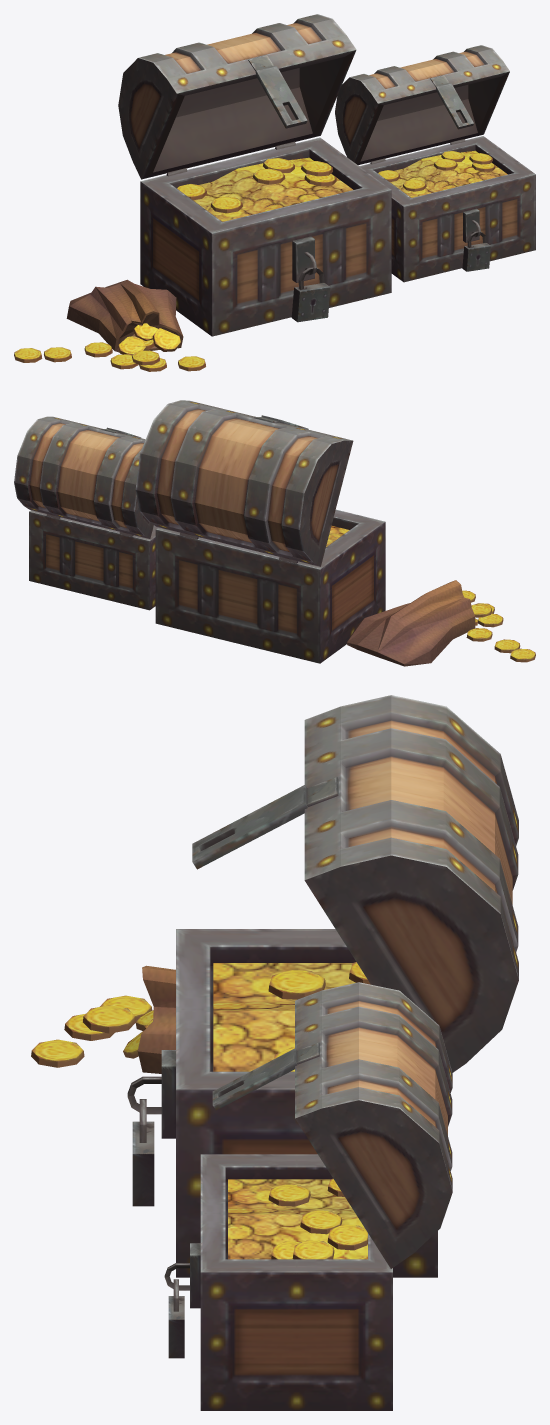
File: Area_06_28.fbx
The picture shows the model from 3 angles, top to bottom: view 1: azimuth 30°, elevation 25°; view 2: azimuth 150°, elevation 25°; view 3: azimuth 270°, elevation 25°; orthographic projection. The views are drawn at different scales.
Parts seen in each view (by area): view 1: Area_06_28; view 2: Area_06_28; view 3: Area_06_28.
Part boxes in pixels (bbox=[...]): Area_06_28: bbox=[14, 14, 535, 371]; Area_06_28: bbox=[14, 400, 535, 666]; Area_06_28: bbox=[31, 695, 518, 1410].
Bounding box in the file's own units: 558 × 242 × 253.
